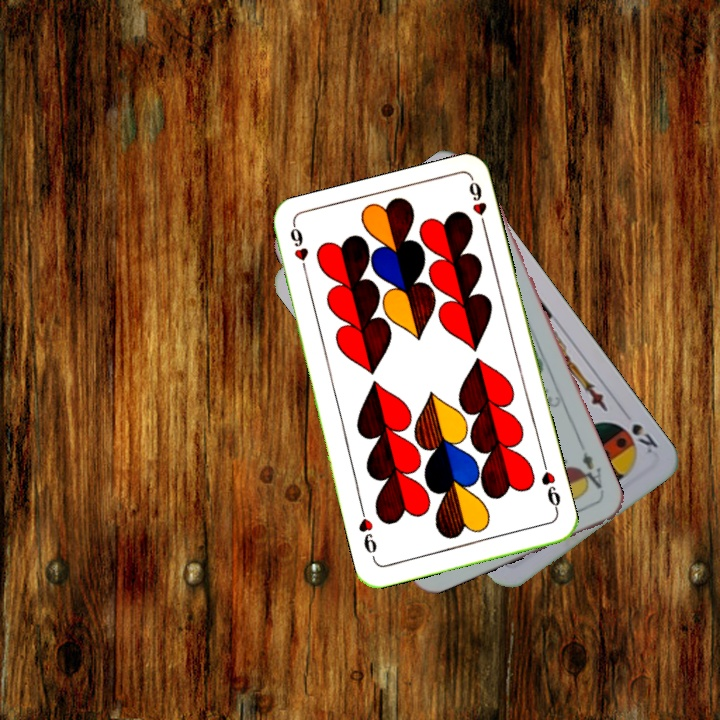EA: (574, 448, 607, 497)
H9: (537, 458, 563, 516), (286, 222, 311, 281)
SK: (614, 419, 661, 456)
